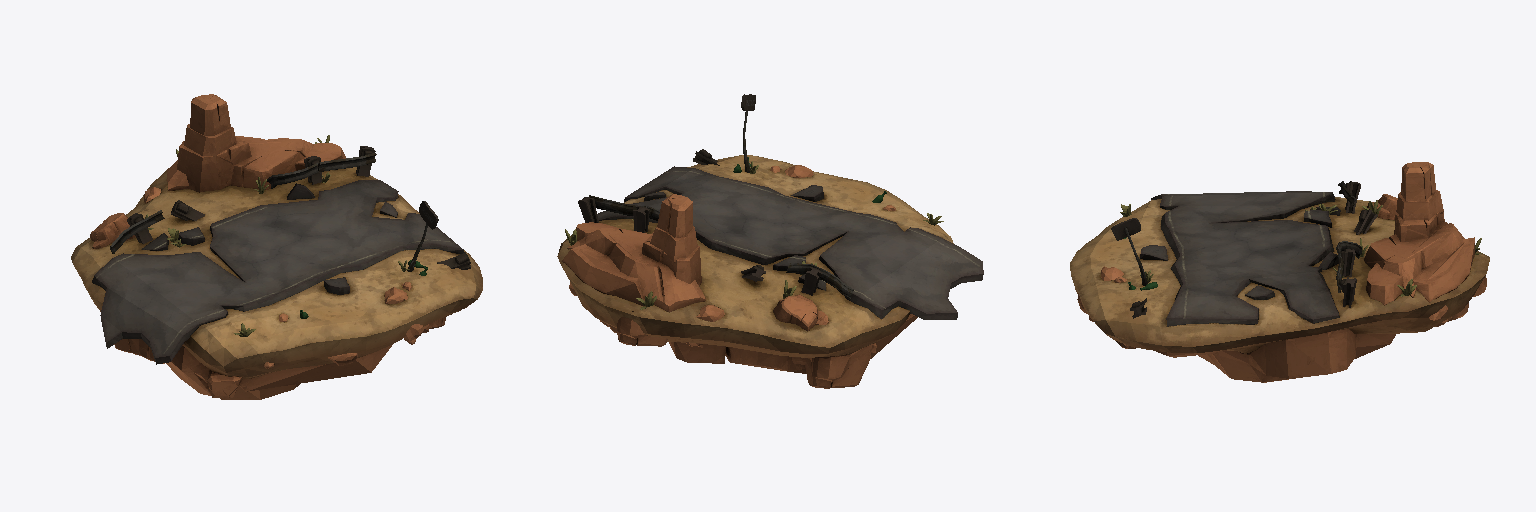
3 views of the same model, side by side, from view 1: azimuth 30°, elevation 25°; view 2: azimuth 150°, elevation 25°; view 3: azimuth 270°, elevation 25° (orthographic).
Parts seen in each view (by area): view 1: bottles; view 2: bottles; view 3: bottles.
Boxes of the visible parts, x1,y1,x2,y2 form: bottles: [71, 94, 482, 399]; bottles: [557, 94, 983, 388]; bottles: [1070, 162, 1489, 382].
Size of the model in its own units: 9.9 by 5.69 by 10.61.
Materials: 1 (1 with a texture image).